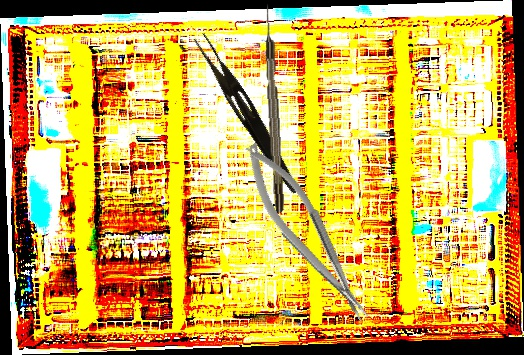Dressing Forceps: (187, 31, 308, 197)
Hook Surgical: (262, 3, 285, 214)
Needle Holder: (232, 133, 379, 334)
